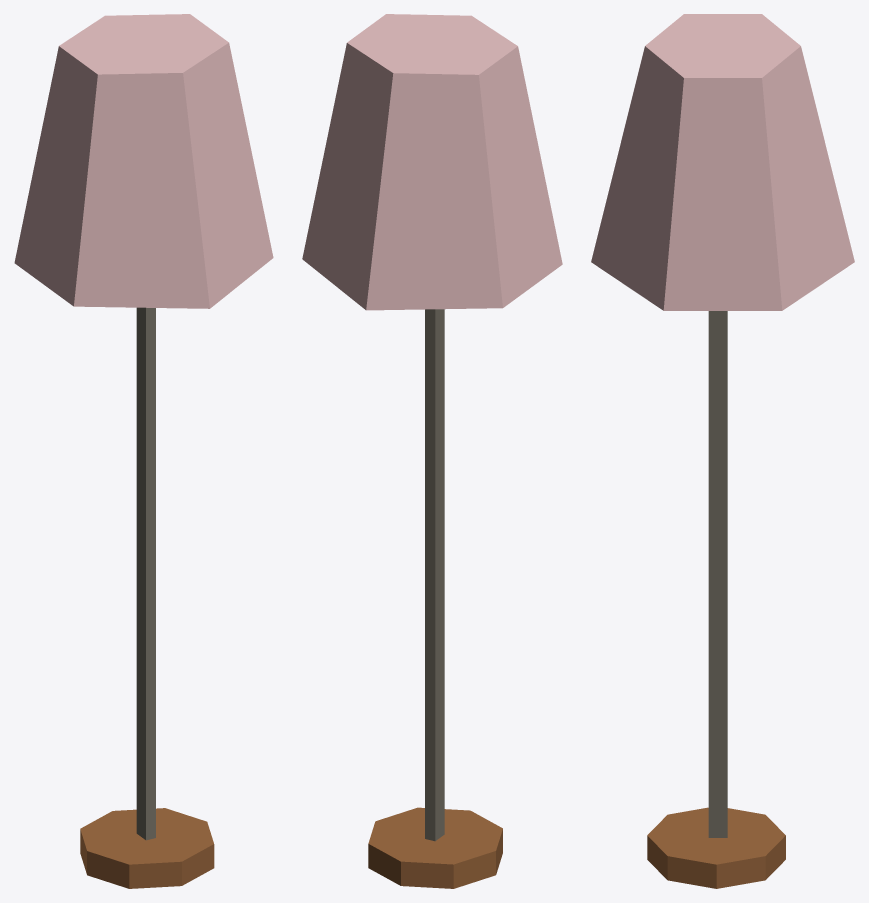
File: Lamp.fbx
The picture shows the model from 3 angles, left to right: view 1: azimuth 30°, elevation 25°; view 2: azimuth 150°, elevation 25°; view 3: azimuth 270°, elevation 25°; orthographic projection.
Visible parts, largest first — view 1: Lamp; view 2: Lamp; view 3: Lamp.
Boxes of the visible parts, box(x1,y1,x2,y2) form: Lamp: box(14, 14, 273, 888); Lamp: box(302, 14, 562, 888); Lamp: box(591, 14, 854, 888).
Size of the model in its own units: 51.54 by 201 by 59.
